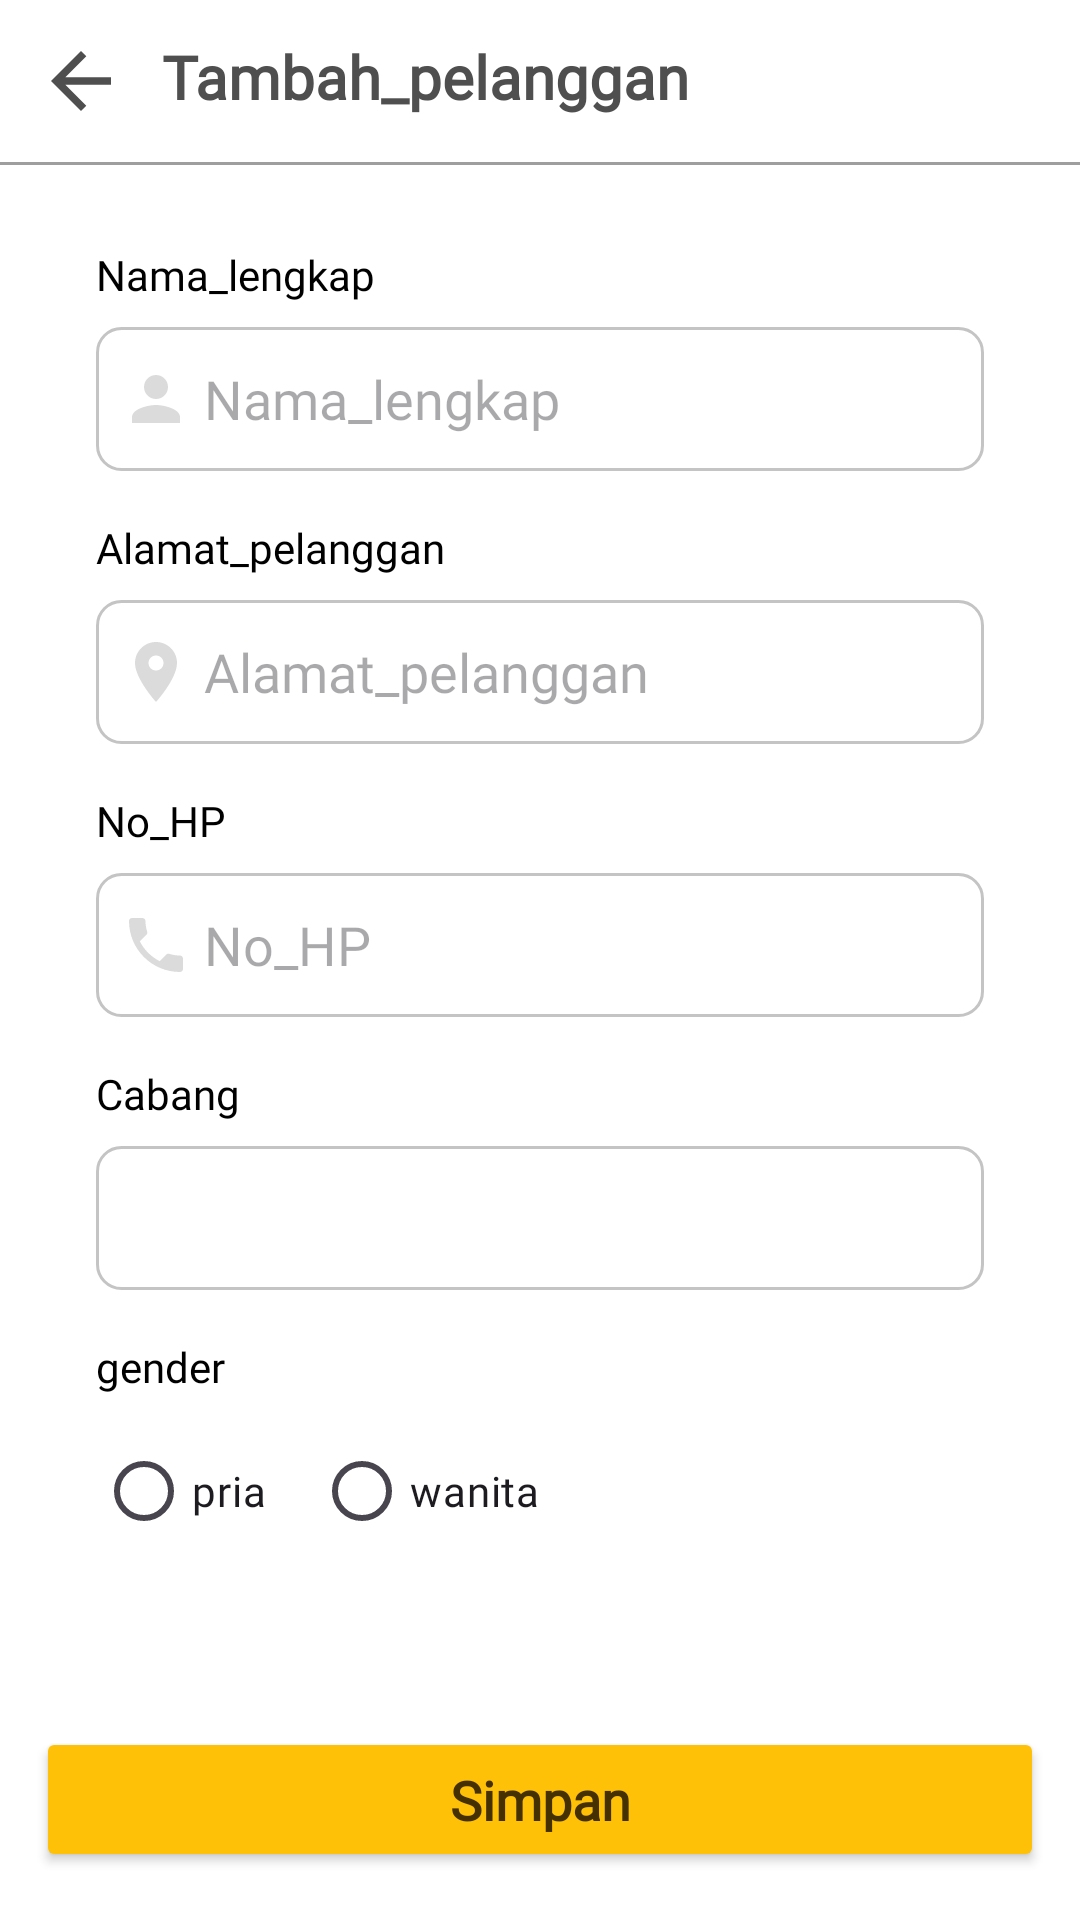

Where to tap for icons on this 1080 × 1920 app screen, as (x=x, y=y):
arrow back: (x=81, y=81)
